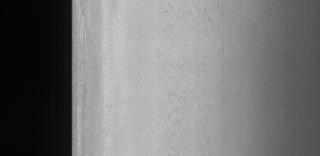silk spot: (147, 0, 236, 150)
